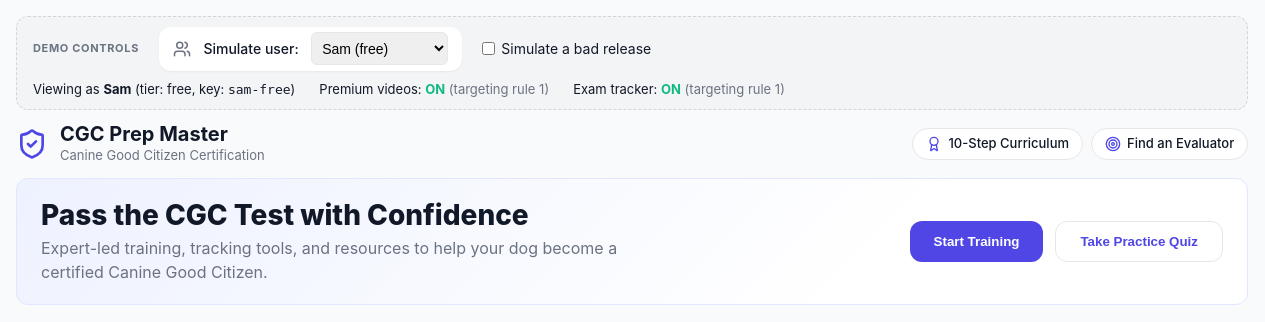
Test case: context and metric › shows the reason for the newly chosen persona once the context has changed
Select "Alex (free)" in the dropdown labelled "Simulate user:" at (379, 49), box [311, 32, 448, 65]
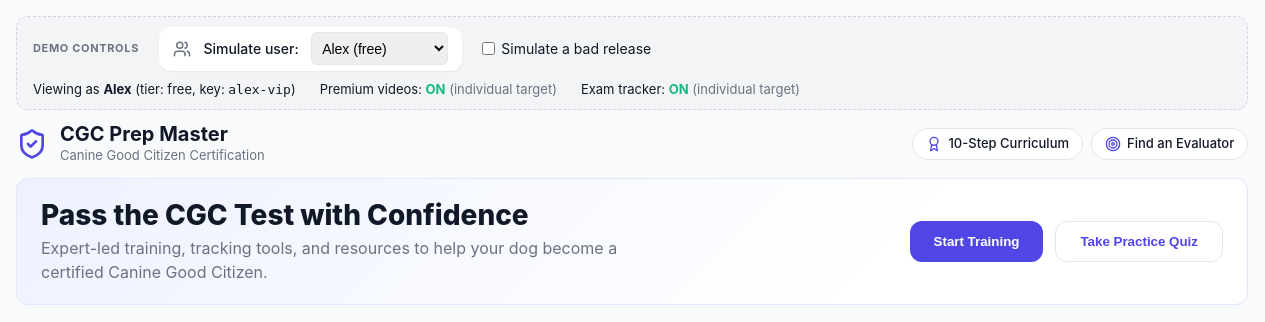
Result: the element named "Flag status" shows "Premium videos: ON (individual target)" at [33, 81, 800, 97]
